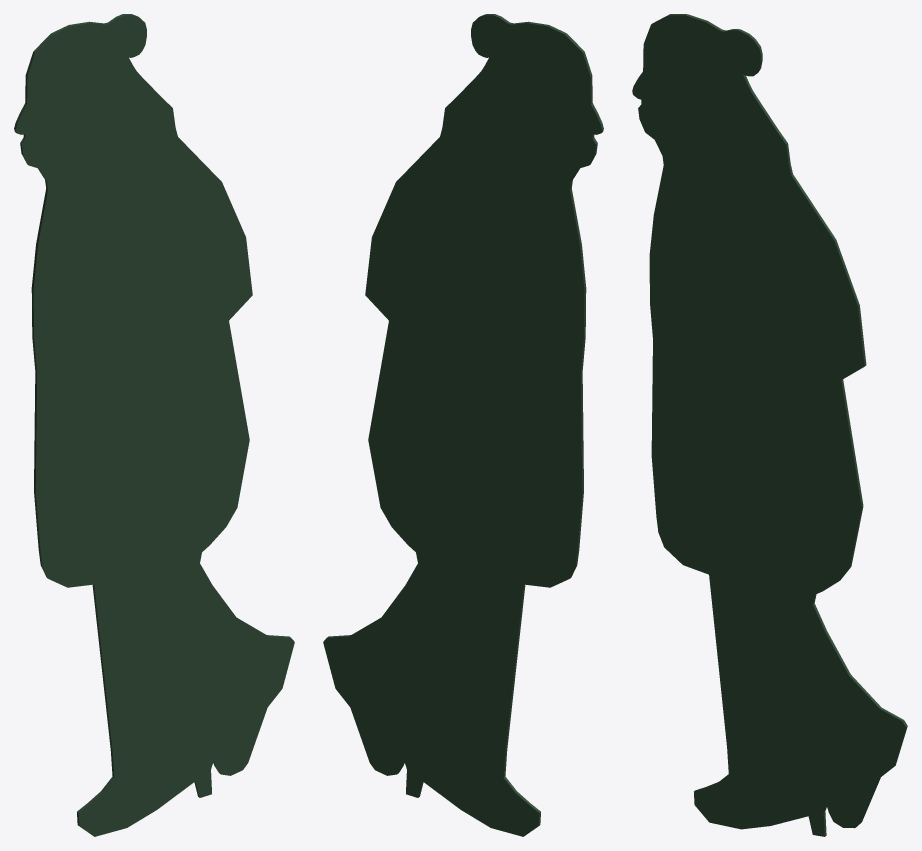
The model's file is elderwoman_moving.fbx.
3 views of the same model, side by side, from view 1: azimuth 30°, elevation 25°; view 2: azimuth 150°, elevation 25°; view 3: azimuth 330°, elevation 25° (orthographic).
Parts seen in each view (by area): view 1: elderwoman_moving; view 2: elderwoman_moving; view 3: elderwoman_moving.
Part boxes in pixels (x1,y1,x2,y2): elderwoman_moving: (14, 14, 294, 836); elderwoman_moving: (323, 14, 603, 836); elderwoman_moving: (632, 14, 907, 836).
Bounding box in the file's own units: 13.83 × 38.66 × 0.1586.
